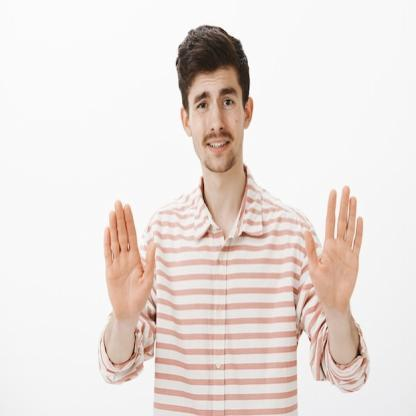stop: (301, 181, 367, 315), (99, 196, 158, 325)
